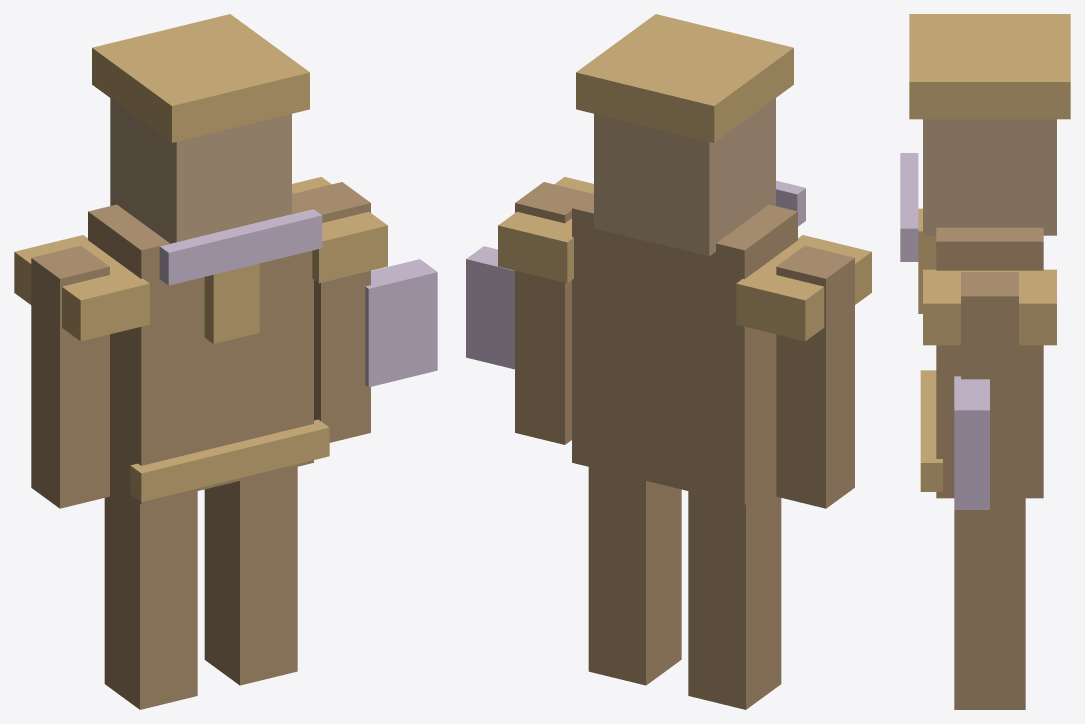
Rendered from 13_brant_echohand_smith_from_ember.glb.
3 views of the same model, side by side, from view 1: azimuth 30°, elevation 25°; view 2: azimuth 150°, elevation 25°; view 3: azimuth 270°, elevation 25° (orthographic).
Parts seen in each view (by area): view 1: Brant Echohand, Smith from Ember; view 2: Brant Echohand, Smith from Ember; view 3: Brant Echohand, Smith from Ember.
Boxes of the visible parts, box(x1,y1,x2,y2) form: Brant Echohand, Smith from Ember: box(14, 14, 437, 709); Brant Echohand, Smith from Ember: box(466, 14, 871, 709); Brant Echohand, Smith from Ember: box(900, 14, 1070, 709).
Size of the model in its own units: 1.01 by 1.59 by 0.3943.
